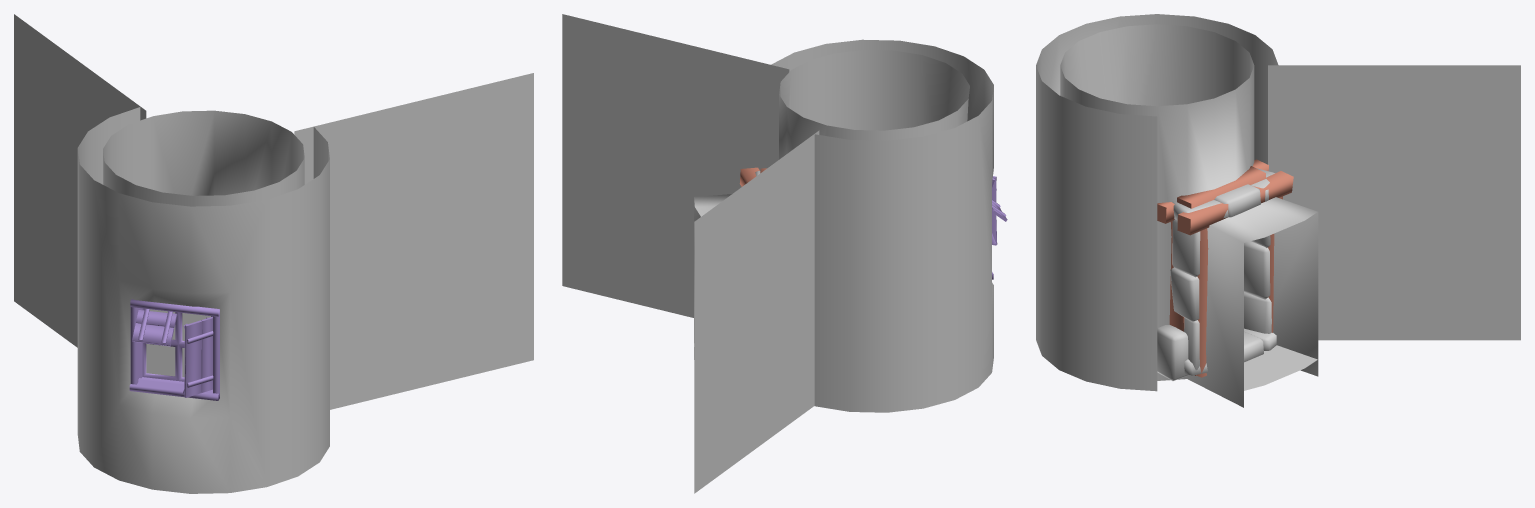
The model's file is tower_c_segment_b_outside.fbx.
3 views of the same model, side by side, from view 1: azimuth 30°, elevation 25°; view 2: azimuth 150°, elevation 25°; view 3: azimuth 270°, elevation 25° (orthographic). The views are drawn at different scales.
Visible parts, largest first — view 1: Cylinder.032, Plane.082, Plane.085, Plane.083, Plane.084; view 2: Cylinder.032; view 3: Cylinder.032, Cylinder.035, Cube.143.
Boxes of the visible parts, x1,y1,x2,y2 form: Cylinder.032: (14,14,533,493); Plane.082: (129,299,219,400); Plane.085: (183,317,213,397); Plane.083: (146,309,210,377); Plane.084: (132,308,177,346); Cylinder.032: (562,14,993,493); Cylinder.032: (1036,14,1520,407); Cylinder.035: (1157,168,1276,380); Cube.143: (1157,159,1293,377).
Size of the model in its own units: 8.01 by 5 by 8.
